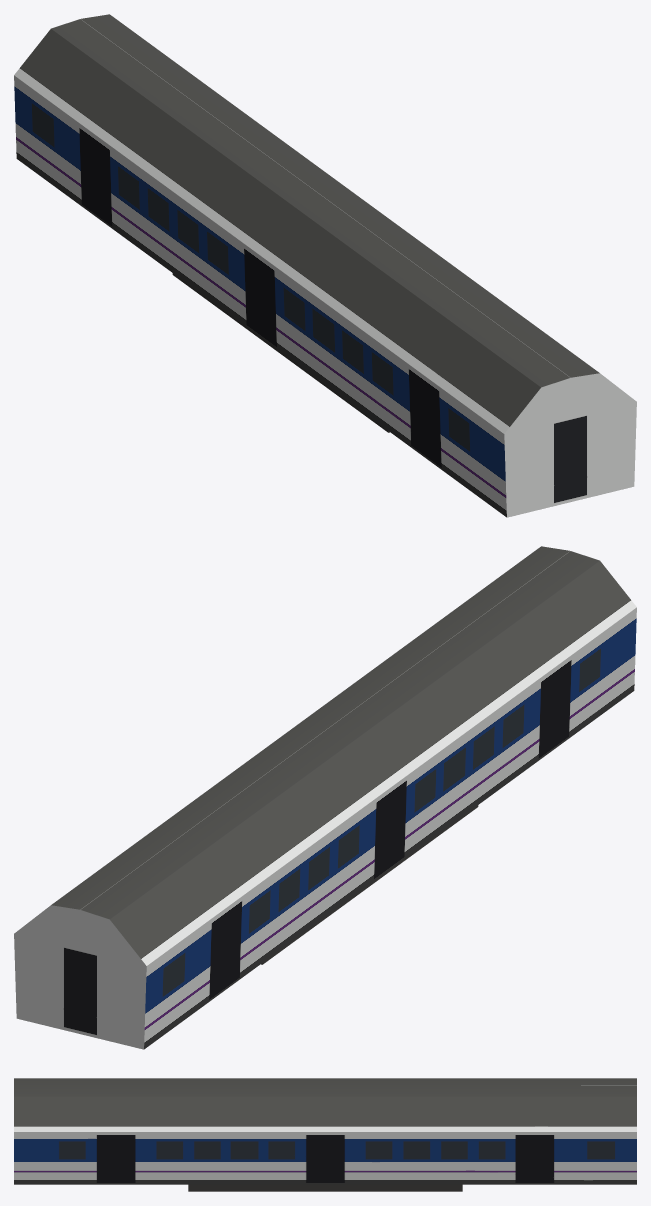
The model's file is emu_ac_trailer_lod2.glb.
3 renders of one model, top to bottom at view 1: azimuth 30°, elevation 25°; view 2: azimuth 150°, elevation 25°; view 3: azimuth 270°, elevation 25°, orthographic. The views are drawn at different scales.
Visible parts, largest first — view 1: body; view 2: body; view 3: body.
Boxes of the visible parts, x1=… form: body: x1=14, y1=14, x2=636, y2=517; body: x1=14, y1=546, x2=636, y2=1049; body: x1=14, y1=1078, x2=636, y2=1191.
Bounding box in the file's own units: 3.25 × 3.38 × 20.8.
Materials: 2 (2 with a texture image).
